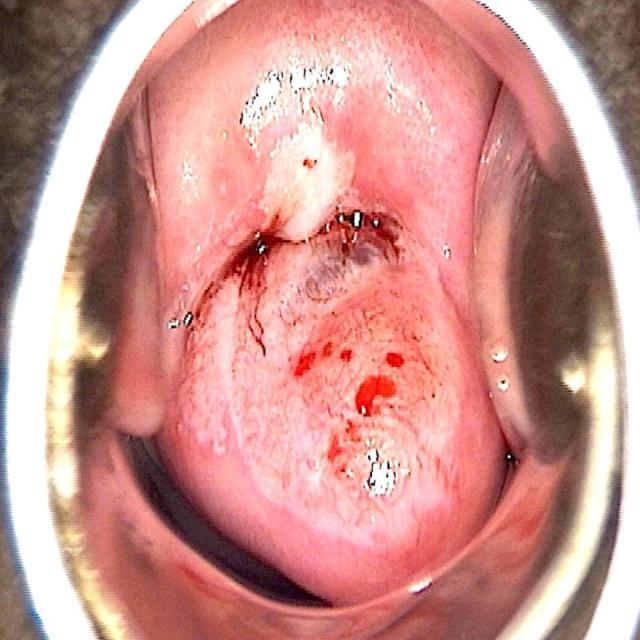cervical_lesion: (168, 43, 461, 549)
